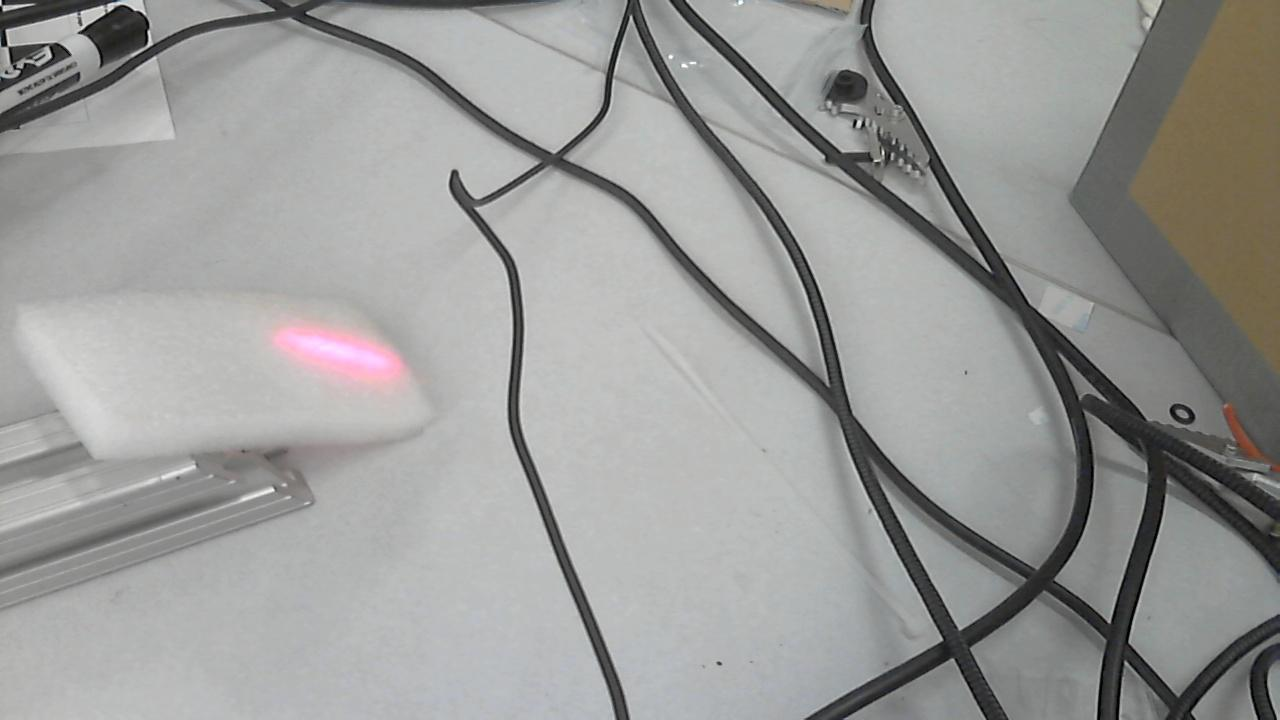Object white rectangular foam block - Material Foam - Color white - Pdfname LpbA: (252, 323, 418, 385)
